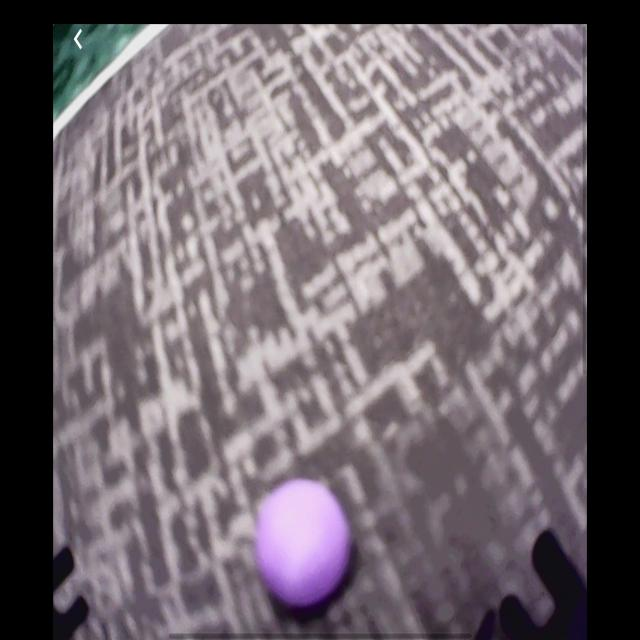ball: (256, 480, 354, 607)
